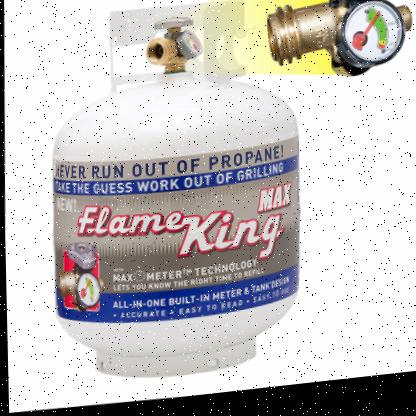gas-tank: (36, 0, 322, 400)
